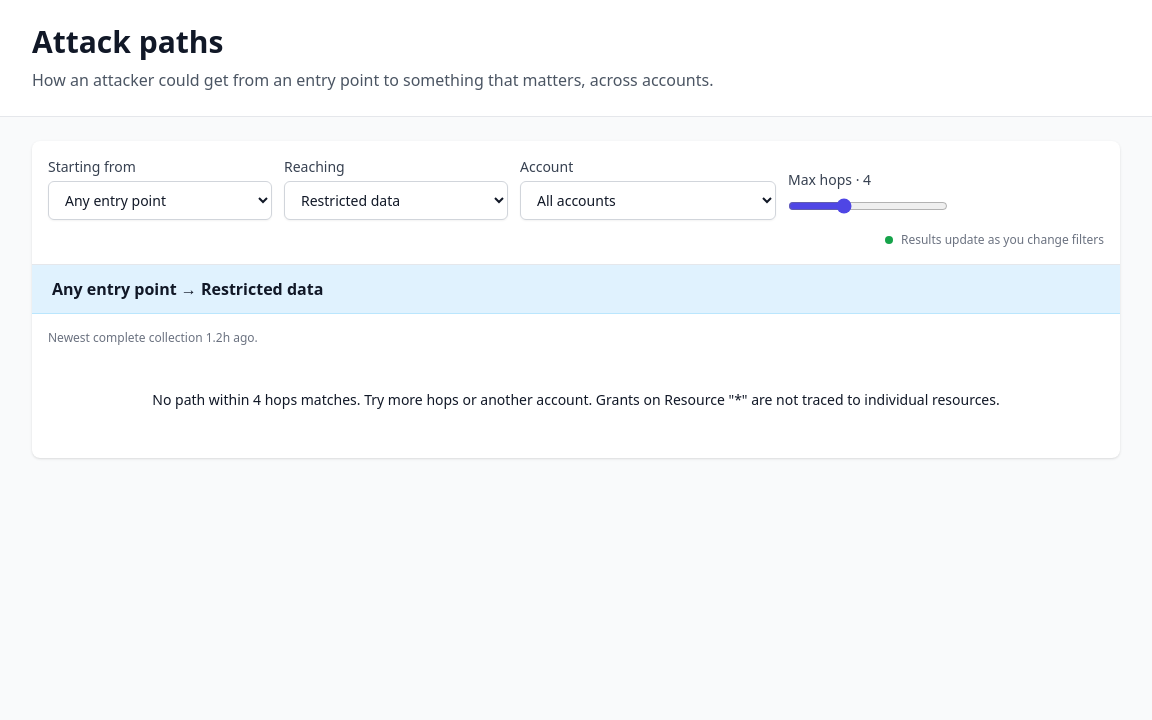
Test case: AttackPathsPage › waits for a picked resource before searching to it
The width and height of the screenshot is (1152, 720).
Select "A specific resource" in the dropdown labelled "Reaching" at coordinates (396, 200), box [284,181,508,220]
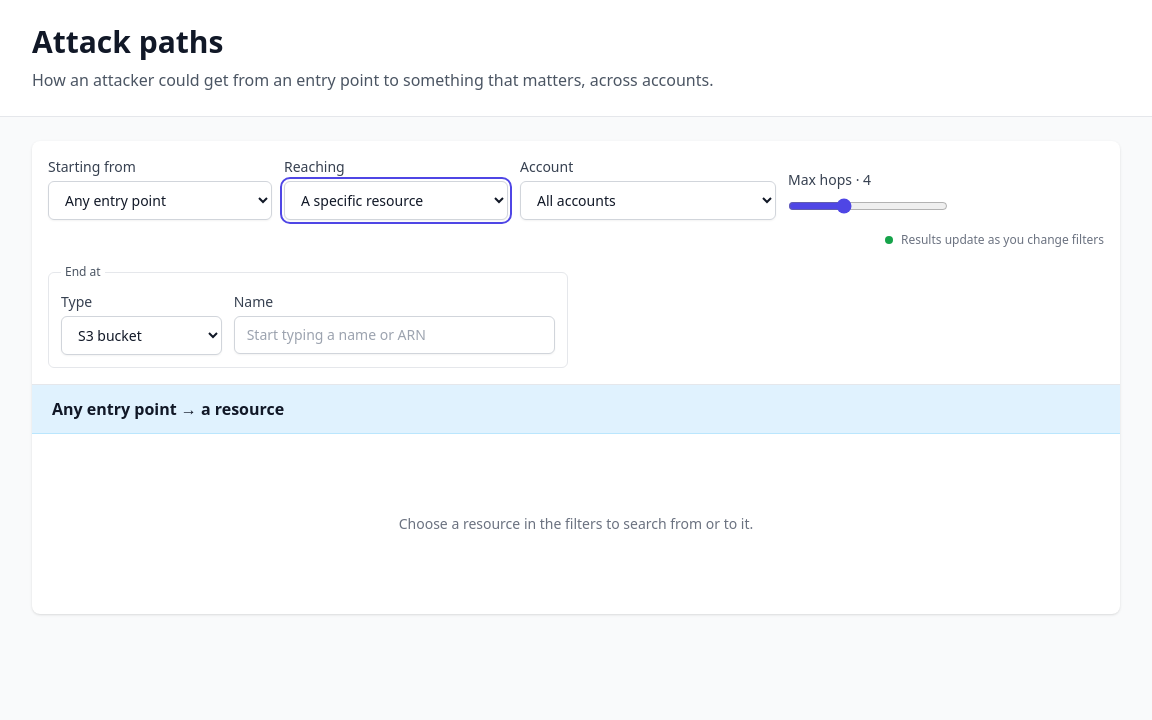
Now the text "Choose a resource in the filters to search from or to it." is shown, box [399,514,753,533]
Now the element "End at" is shown, box [48,264,568,368]
Type "payments" into the field labelled "Name" at coordinates (394, 335), box [234,316,555,354]
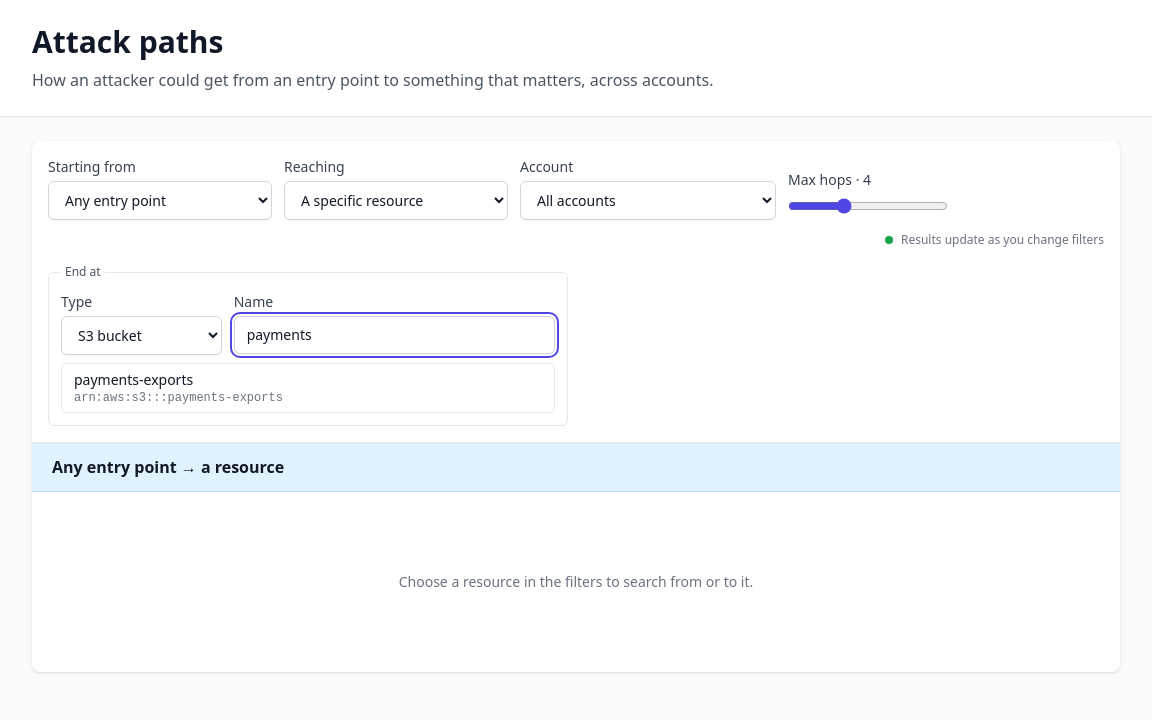
Click the button "payments-exports arn:aws:s3:::payments-exports" at coordinates (134, 380), box [62,364,554,412]
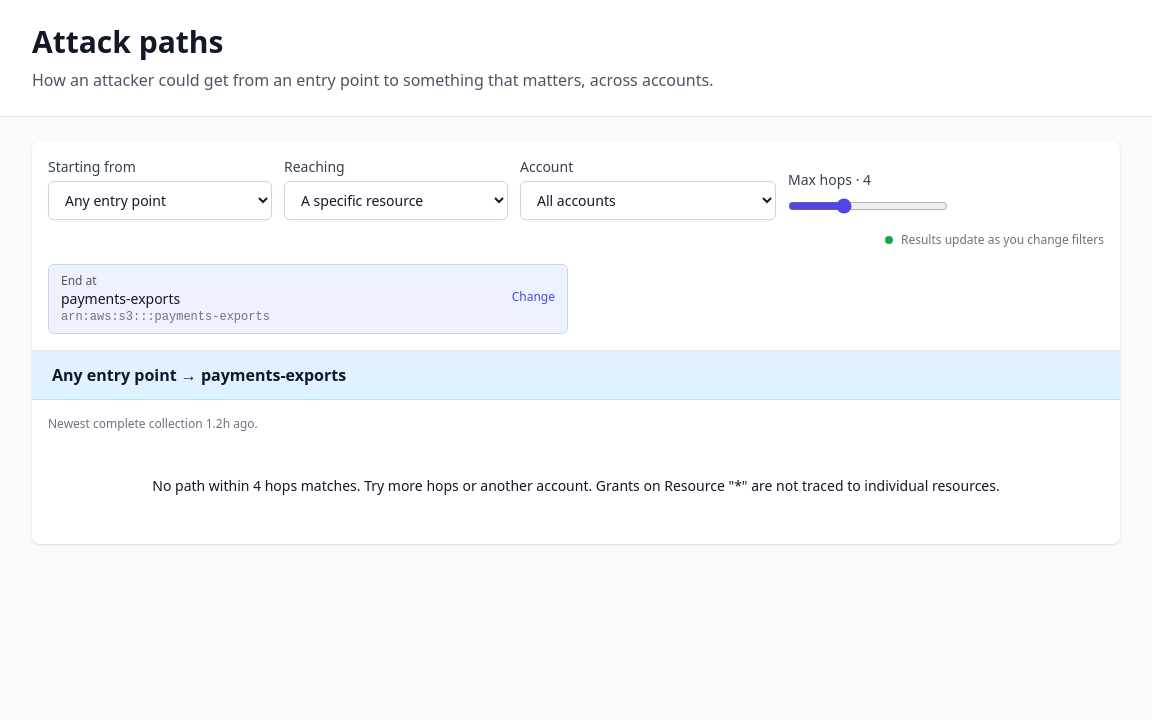
Now the heading "Any entry point → payments-exports" is shown, box [52,363,346,387]
